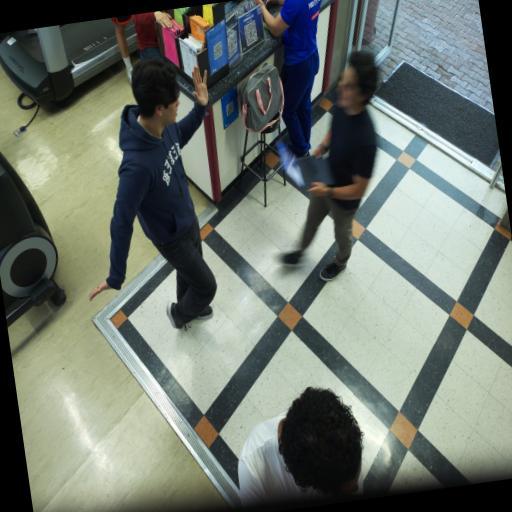person: (89, 58, 216, 328), (283, 52, 376, 281), (237, 388, 362, 506), (253, 0, 320, 156), (132, 11, 171, 59), (111, 15, 131, 82)
